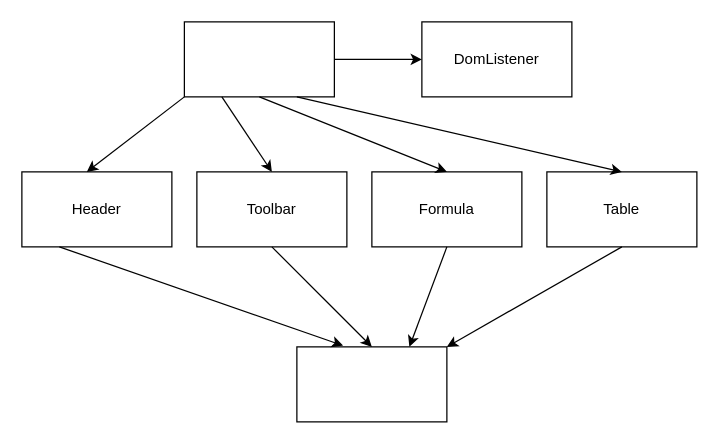
Some shapes in this 719 by 444 pixel diagram are drawn without their labels. The shapes that lost their labels are listed below. From the top down, each one's box as (x1, y1, x2, y2) in pixels, then its label:
(183, 21, 334, 97): ExcelComponent
(296, 346, 447, 422): Excel
